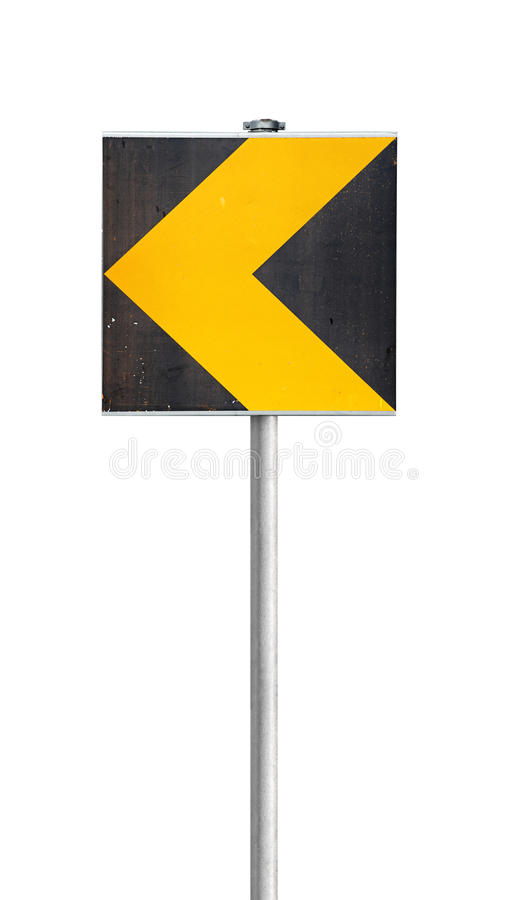left turn: (99, 129, 399, 420)
